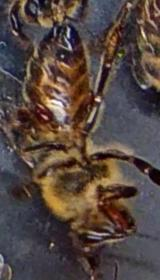varroa_mite: (32, 98, 54, 124)
